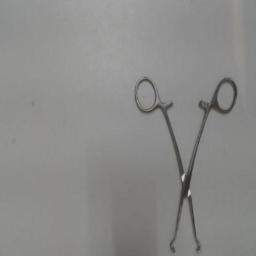Babcock Tissue Forceps: (130, 72, 240, 256)
